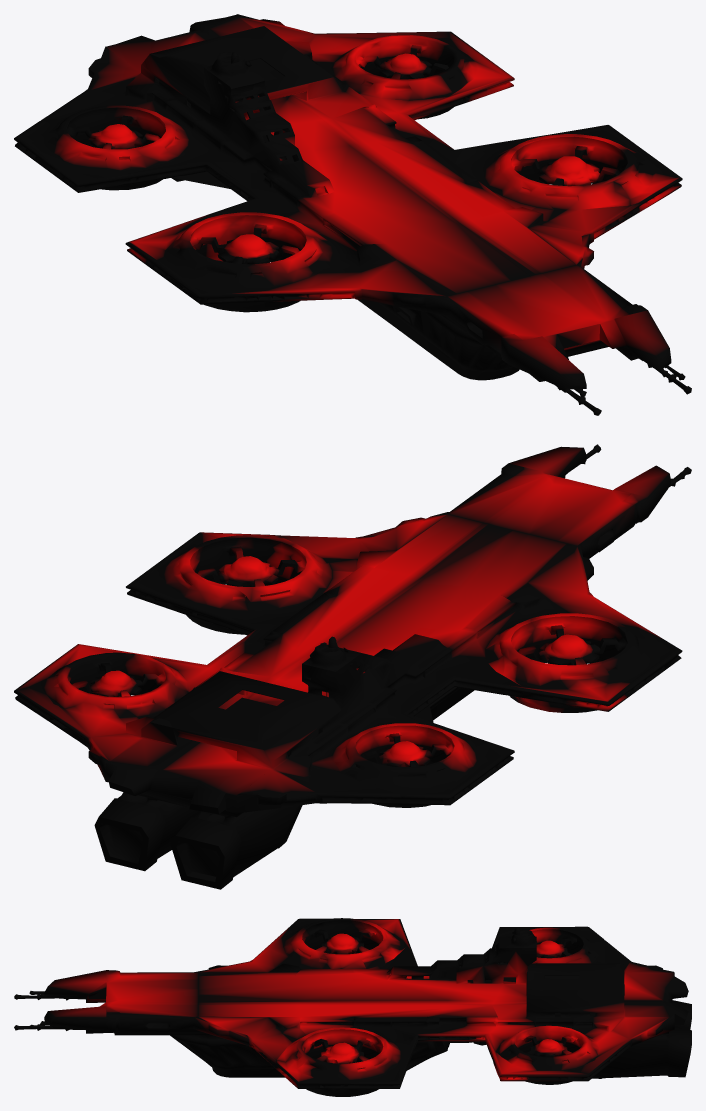
File: Helicarrier.fbx
3 views of the same model, one above another, from view 1: azimuth 30°, elevation 25°; view 2: azimuth 150°, elevation 25°; view 3: azimuth 270°, elevation 25° (orthographic). The views are drawn at different scales.
Visible parts, largest first — view 1: SM_Junior_Helicarrier_Crashing_LOD0.mo; view 2: SM_Junior_Helicarrier_Crashing_LOD0.mo; view 3: SM_Junior_Helicarrier_Crashing_LOD0.mo.
Boxes of the visible parts, x1,y1,x2,y2 form: SM_Junior_Helicarrier_Crashing_LOD0.mo: (14, 14, 691, 415); SM_Junior_Helicarrier_Crashing_LOD0.mo: (14, 444, 691, 889); SM_Junior_Helicarrier_Crashing_LOD0.mo: (14, 918, 691, 1096).
Bounding box in the file's own units: 22754 × 8115 × 39603.
